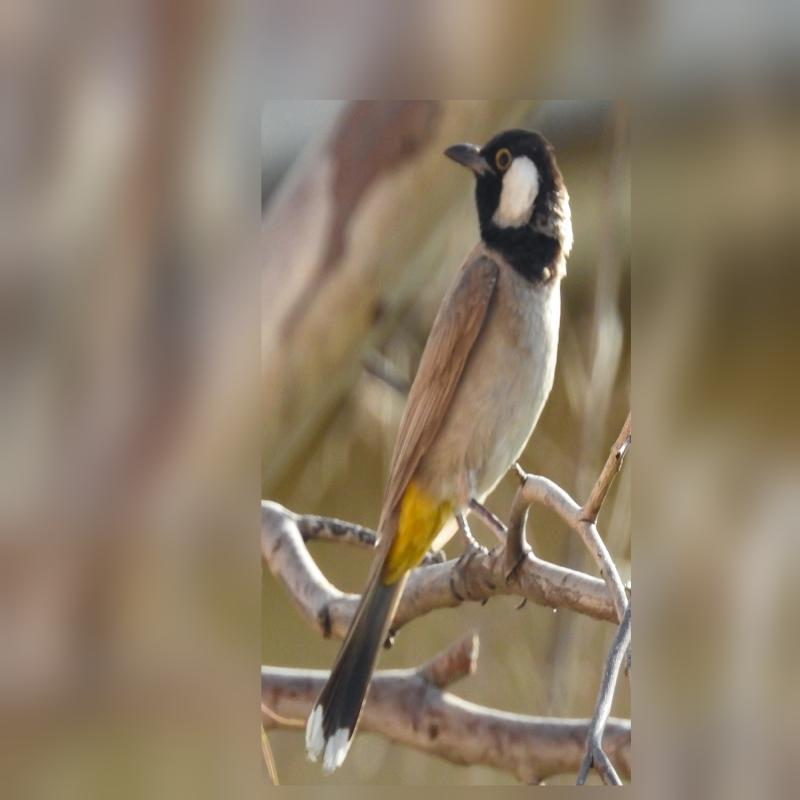white-eared bulbul: (304, 125, 595, 772)
